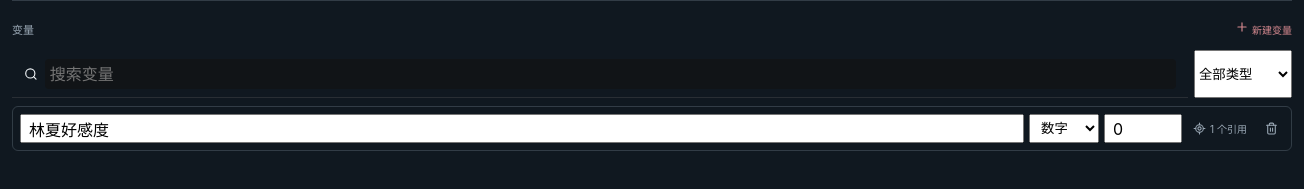
it: VariableManager › blocks an incompatible type change with visible locations
This screenshot has width=1304, height=189.
Select "文本" in the dropdown named "变量类型 林夏好感度" at (1064, 128), box [1029, 114, 1099, 143]
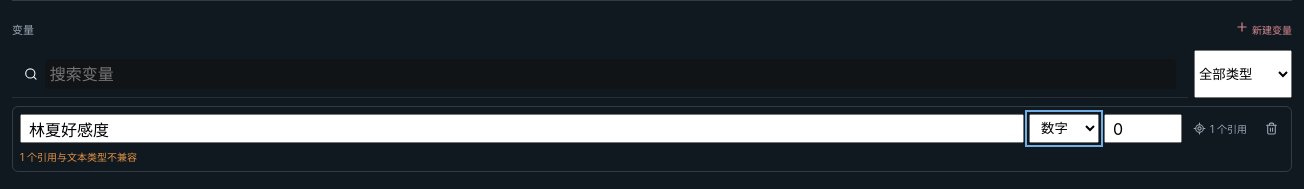
Expected: the text "1 个引用与文本类型不兼容" is shown, [20, 151, 137, 163]
